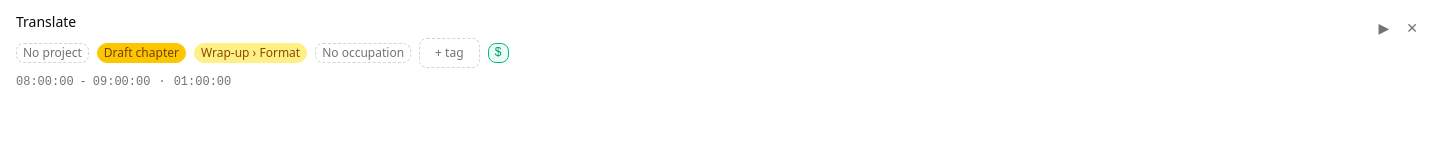
Test: TtcEntryRow › shows the linked subtask as a badge with checklist title, and opens the picker on click
This screenshot has width=1433, height=160.
Expected: the text titled "Edit subtask" reads "Wrap-up › Format", [201,44,300,61]
Click the text titled "Edit subtask" at (251, 53), box [194,43,307,63]
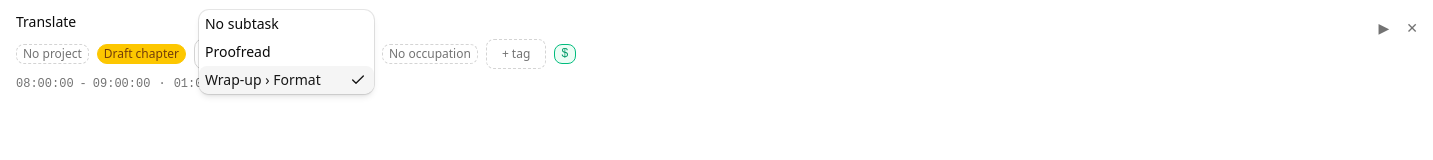
Expected: the text "No subtask" is shown, [205,14,279,34]
